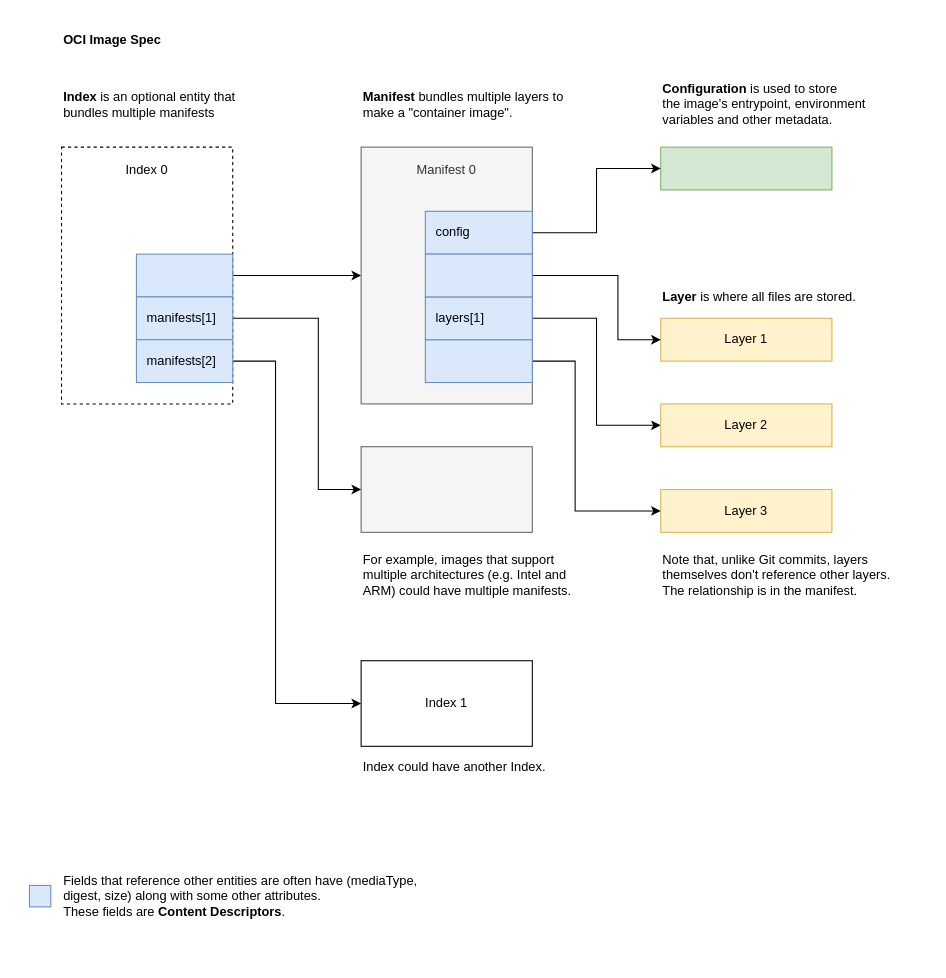
The diagram is 946 pixels wide and 978 high, and some of its shapes have lost their labels. The shapes that lost their labels are listed below. From the top down, each one's box as (x1, y1, x2, y2) in pixels, then its label:
(660, 146, 832, 190): Configuration
(135, 253, 233, 297): manifests[0]
(424, 253, 532, 297): layers[0]
(424, 339, 532, 383): layers[2]
(360, 446, 532, 532): Manifest 1
